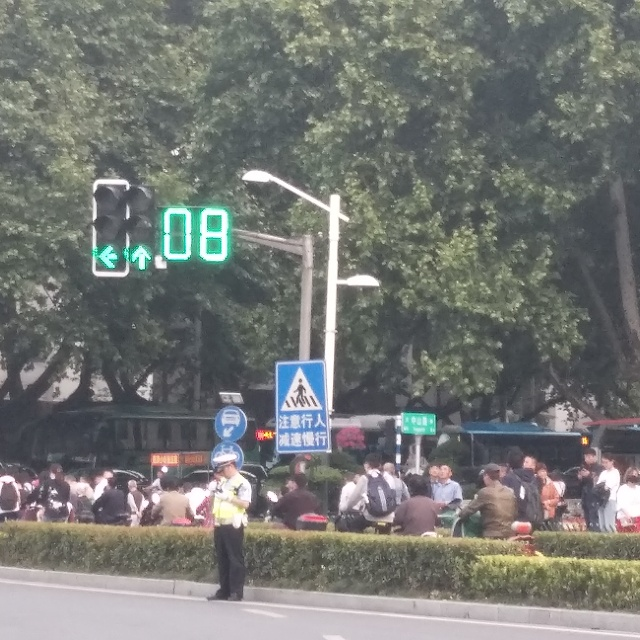straight: (275, 360, 331, 453)
